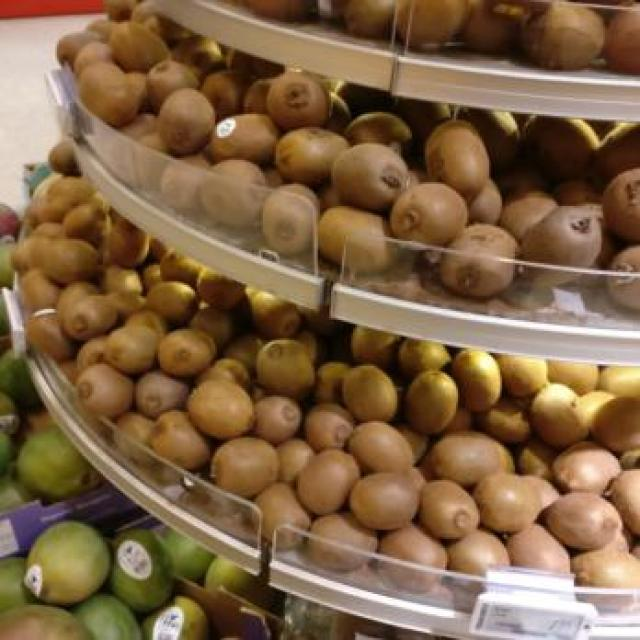kiwi: (517, 208, 599, 286), (441, 224, 518, 297), (331, 142, 409, 211), (524, 2, 602, 69), (426, 120, 490, 199), (428, 431, 515, 488), (319, 206, 394, 272), (524, 116, 600, 180), (379, 524, 448, 594), (391, 182, 468, 244), (542, 492, 622, 550), (202, 161, 269, 227), (306, 512, 379, 572), (296, 449, 360, 514), (262, 184, 319, 256), (275, 128, 348, 184), (186, 380, 254, 440), (211, 438, 279, 498), (474, 472, 541, 532), (350, 472, 419, 530), (530, 382, 589, 448), (78, 61, 136, 127), (459, 109, 518, 173), (552, 441, 621, 495), (266, 72, 329, 131), (320, 205, 384, 263), (158, 89, 215, 154), (398, 0, 470, 51), (419, 480, 480, 540), (149, 410, 210, 470), (256, 339, 315, 399), (405, 370, 459, 435), (206, 115, 279, 163), (349, 421, 414, 472), (255, 482, 311, 541), (465, 0, 528, 52), (76, 362, 134, 418), (506, 524, 570, 574), (452, 349, 502, 412), (342, 365, 398, 421), (109, 21, 169, 72), (161, 152, 210, 212), (158, 329, 216, 378), (590, 398, 640, 454), (448, 530, 510, 575), (500, 191, 558, 239), (104, 325, 159, 375), (41, 238, 99, 285), (26, 309, 78, 361), (571, 549, 640, 588), (604, 168, 640, 242), (135, 370, 190, 418), (148, 60, 199, 111), (62, 295, 118, 341), (249, 290, 301, 339), (596, 122, 640, 179), (304, 402, 354, 451), (476, 399, 530, 443), (254, 395, 301, 444), (146, 281, 198, 325), (201, 72, 249, 119), (606, 245, 640, 311), (496, 355, 548, 398), (496, 162, 550, 203), (394, 99, 451, 137), (345, 112, 411, 144), (351, 326, 400, 369), (196, 268, 245, 310), (608, 9, 640, 73), (110, 216, 149, 268), (27, 194, 73, 238), (610, 469, 640, 535), (398, 339, 451, 376), (134, 131, 167, 190), (340, 82, 394, 118), (116, 411, 155, 459), (344, 0, 394, 37), (189, 308, 235, 348), (548, 360, 599, 395), (174, 36, 222, 73), (20, 269, 60, 312), (62, 202, 105, 242), (276, 439, 315, 483), (222, 334, 265, 373), (196, 358, 250, 389), (160, 250, 204, 288), (518, 439, 558, 480), (47, 174, 95, 208), (56, 30, 101, 66), (469, 179, 502, 224), (315, 361, 350, 403), (72, 41, 114, 76), (520, 475, 560, 511), (576, 390, 616, 426), (245, 0, 313, 21), (56, 281, 100, 313), (232, 53, 284, 78), (599, 366, 640, 397), (125, 309, 168, 338), (555, 179, 601, 206), (101, 265, 142, 295), (106, 291, 146, 321), (398, 426, 429, 463), (324, 91, 351, 133), (76, 335, 106, 371), (49, 140, 79, 176), (120, 112, 153, 144), (242, 79, 272, 113), (20, 238, 53, 268), (126, 72, 148, 113), (601, 525, 630, 552), (295, 330, 318, 362), (104, 0, 138, 21), (444, 408, 472, 433), (86, 19, 116, 42), (31, 222, 64, 239), (142, 264, 162, 291), (11, 240, 28, 269), (59, 359, 79, 382), (408, 466, 426, 491), (620, 448, 640, 470), (631, 542, 640, 558)
